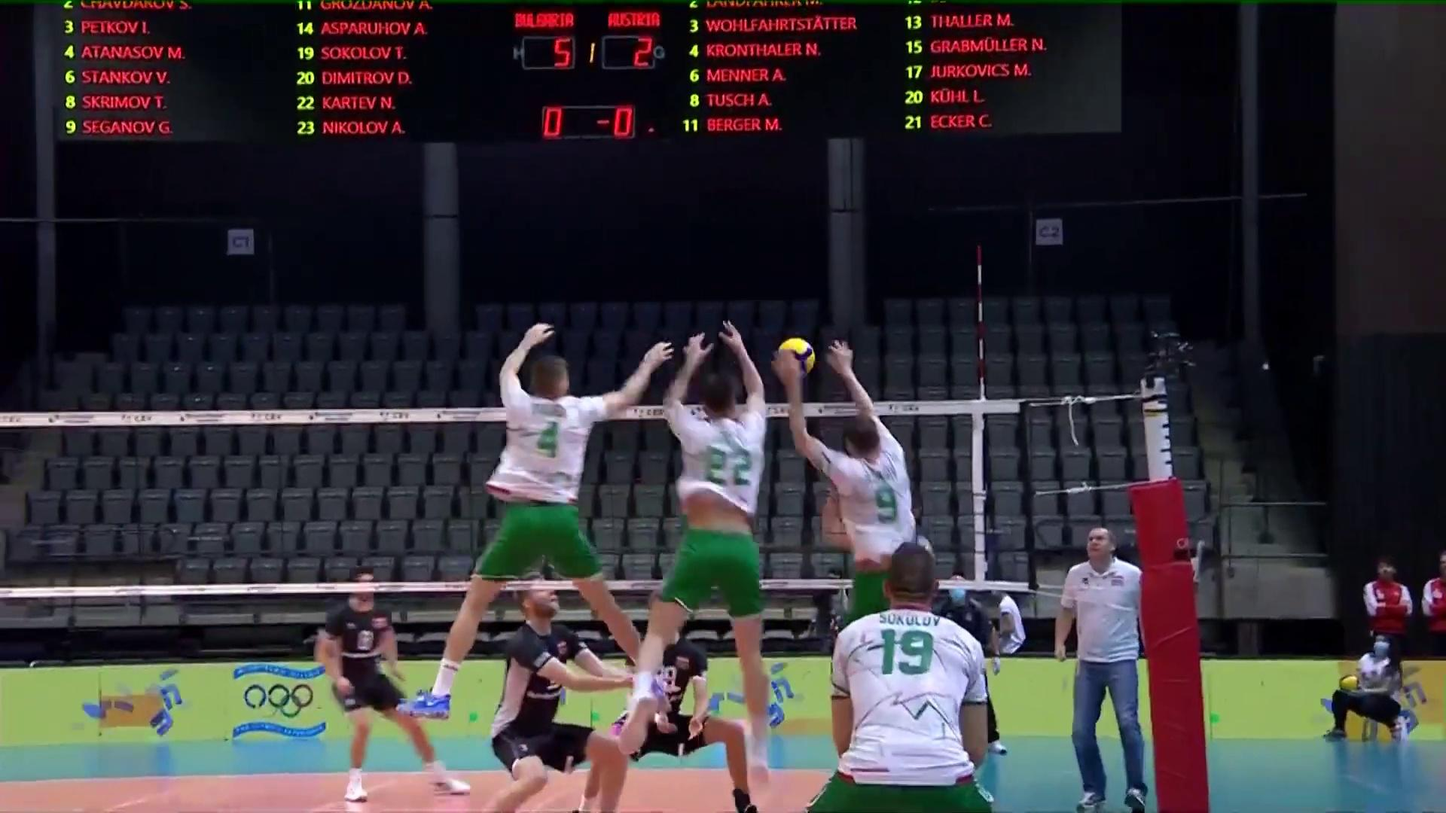ball: (777, 336, 821, 375)
